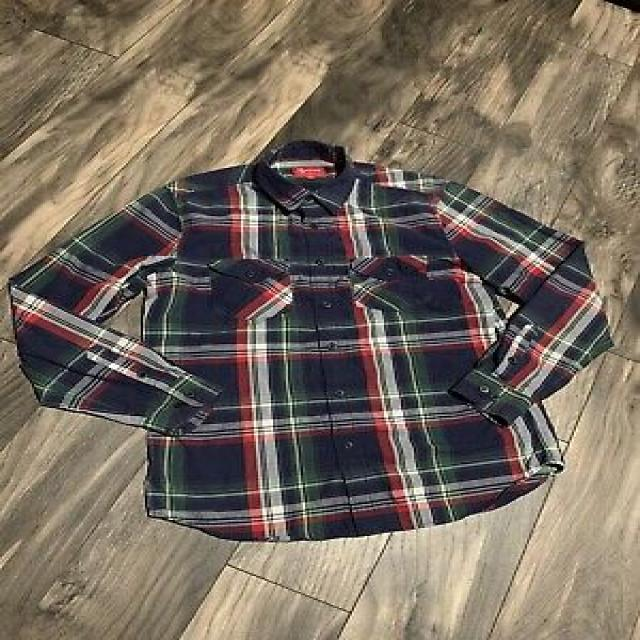plaid: (2, 128, 640, 571)
